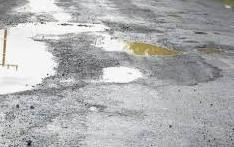pothole: (0, 20, 112, 96), (95, 34, 179, 58), (18, 0, 73, 21), (100, 67, 146, 87), (198, 45, 222, 54)
